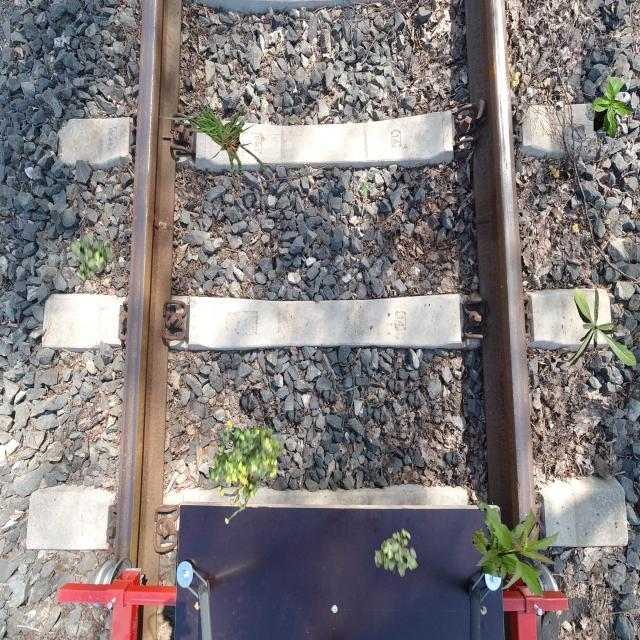Plant: (153, 100, 296, 190), (473, 500, 562, 598), (209, 420, 284, 525), (565, 287, 636, 368), (591, 78, 633, 138), (374, 528, 418, 578), (69, 233, 112, 283), (360, 182, 374, 198)
